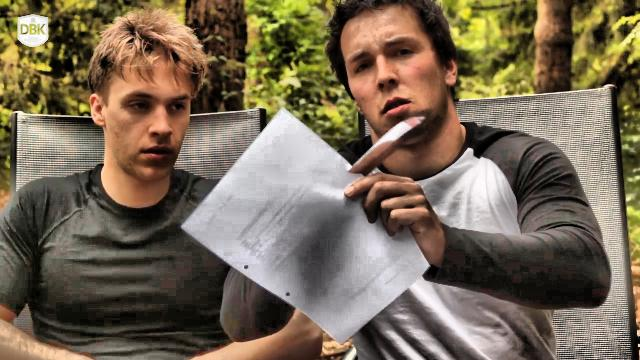knife: (342, 108, 438, 180)
